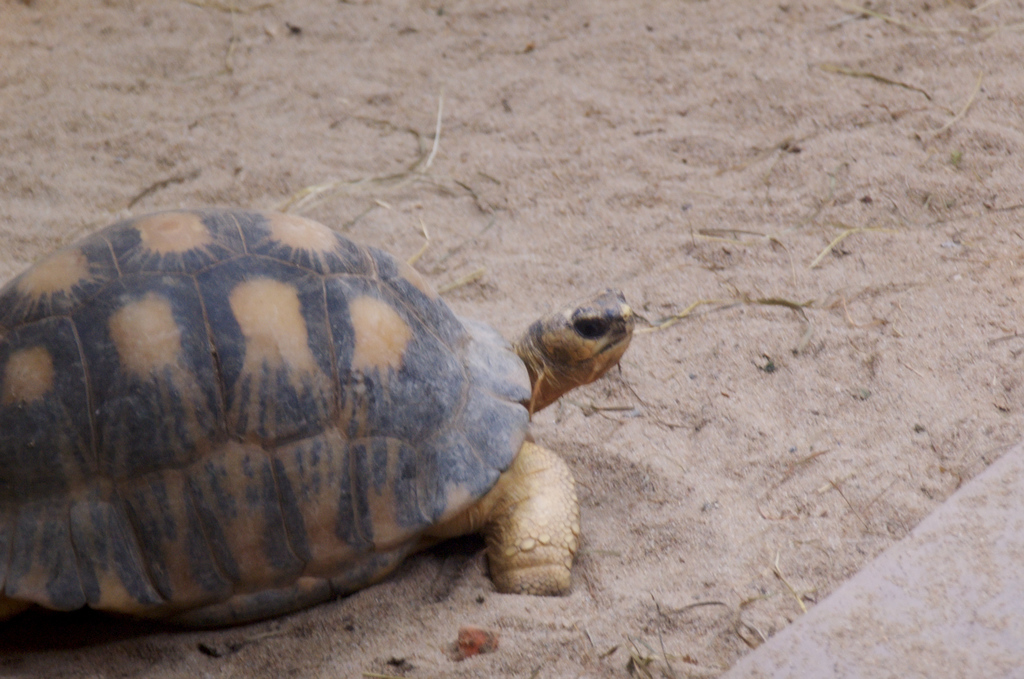Sea turtles: (0, 211, 636, 637)
